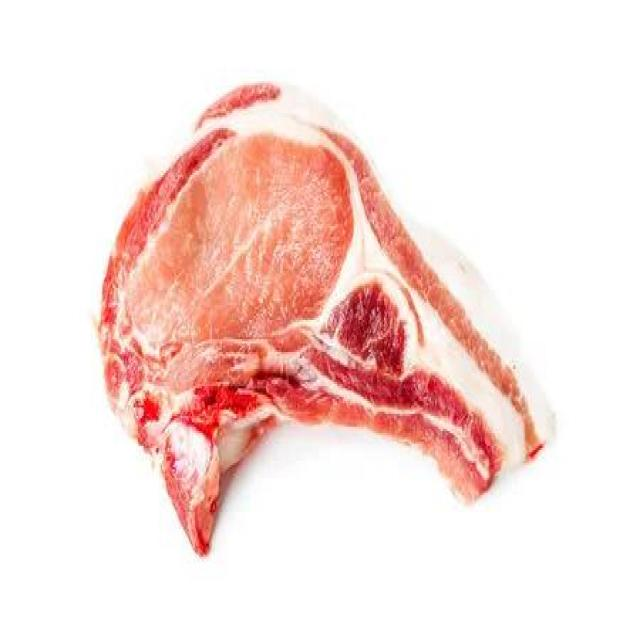pork belly: (95, 82, 547, 557)
